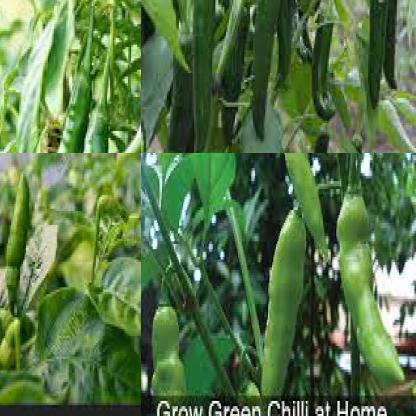Green Chilli: (335, 192, 409, 393), (260, 205, 310, 414), (265, 153, 329, 258), (23, 67, 94, 152), (149, 303, 193, 415), (108, 0, 140, 152), (251, 0, 284, 144), (218, 7, 246, 148), (192, 0, 217, 152), (167, 32, 195, 152), (4, 169, 33, 282), (314, 19, 336, 126), (366, 0, 387, 110), (275, 0, 299, 85), (383, 0, 399, 89), (81, 110, 112, 152)
